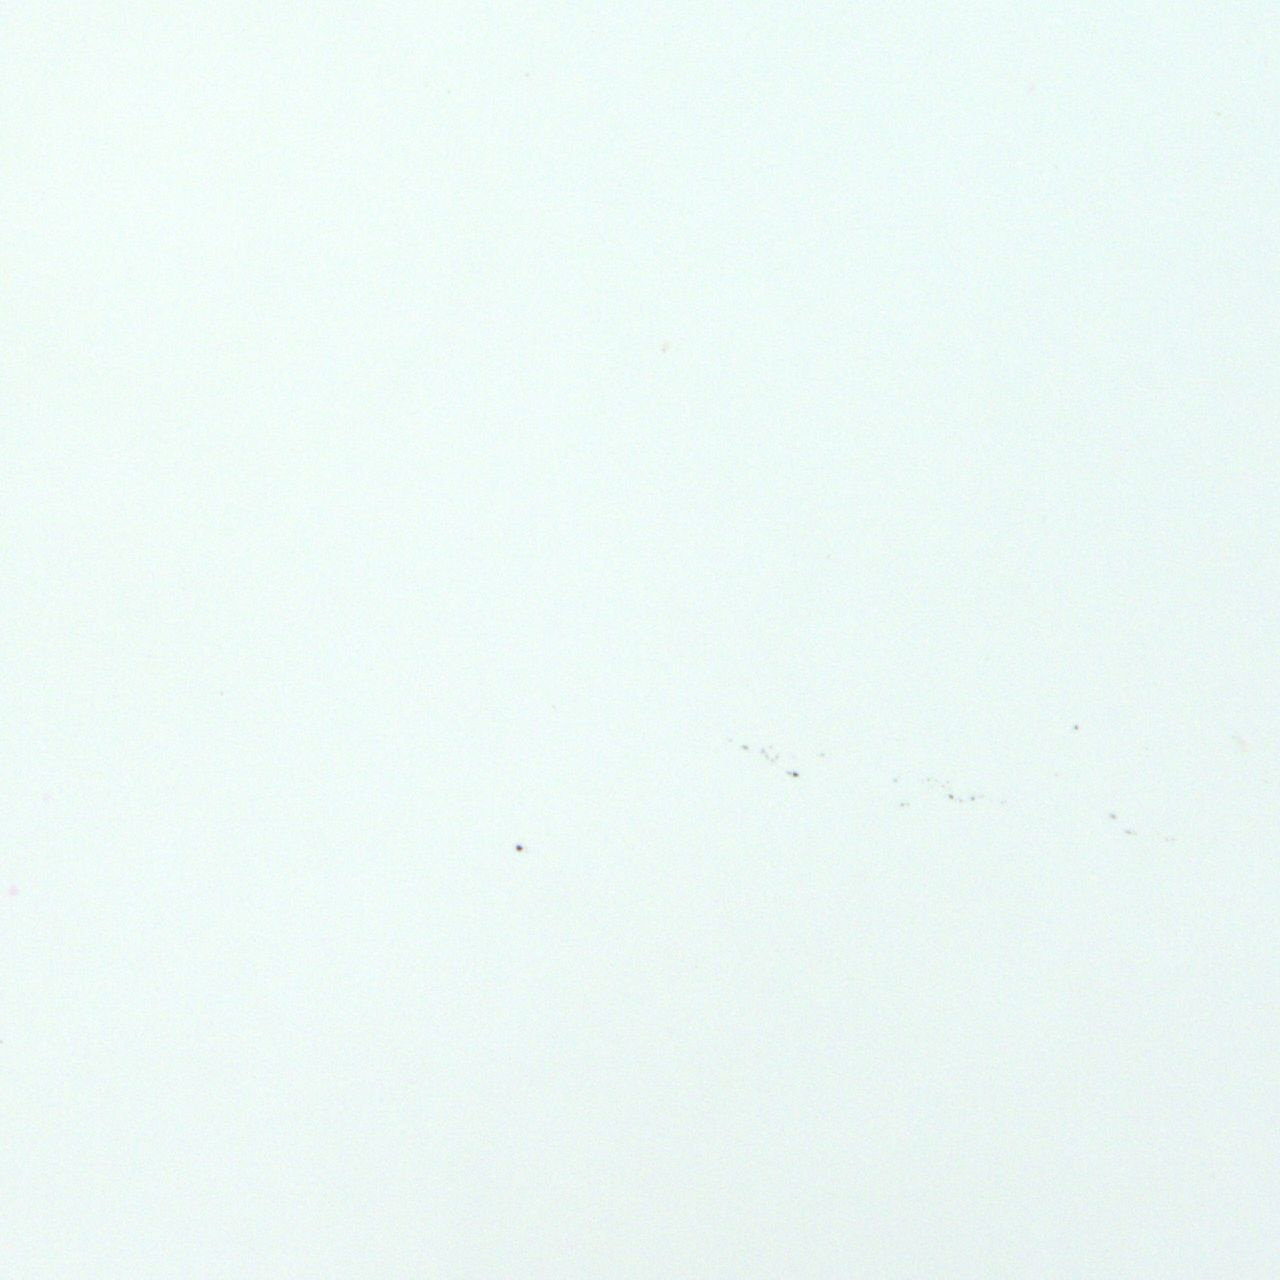dust: (925, 777, 934, 785), (1108, 813, 1117, 821), (515, 844, 523, 851), (741, 744, 748, 750), (949, 794, 955, 801), (1073, 724, 1078, 731), (774, 753, 778, 760), (1125, 830, 1132, 835), (818, 753, 824, 757), (945, 779, 949, 784), (787, 770, 790, 776), (764, 754, 768, 760), (900, 801, 904, 806), (958, 798, 964, 802), (794, 772, 798, 776), (728, 738, 733, 742), (893, 778, 897, 783), (940, 784, 944, 789), (761, 749, 764, 753), (769, 745, 772, 749), (971, 796, 974, 799), (770, 758, 772, 762)
